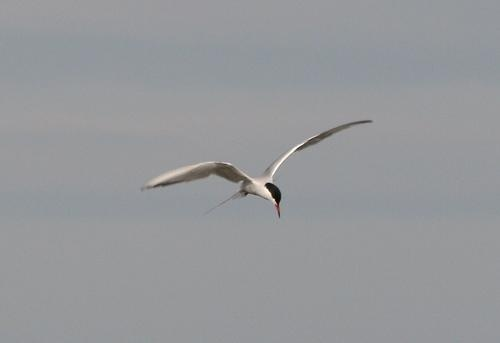bird: (138, 116, 373, 217)
